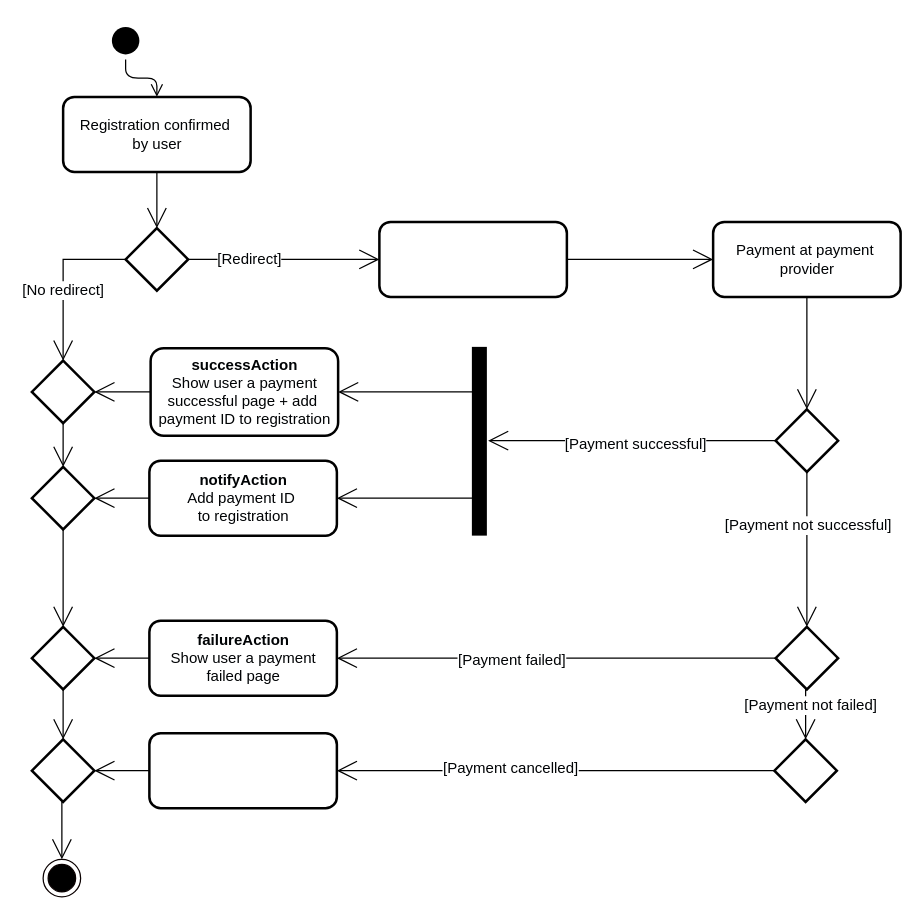
Image size: 923x919. Some labels were removed from this diagram. Here are the shapes that lost their labels. From the top down, the box of each, then its label:
(378, 220, 568, 298): redirectAction Redirect to payment providers payment page
(148, 731, 338, 809): cancelAction Show user a payment cancelled page
